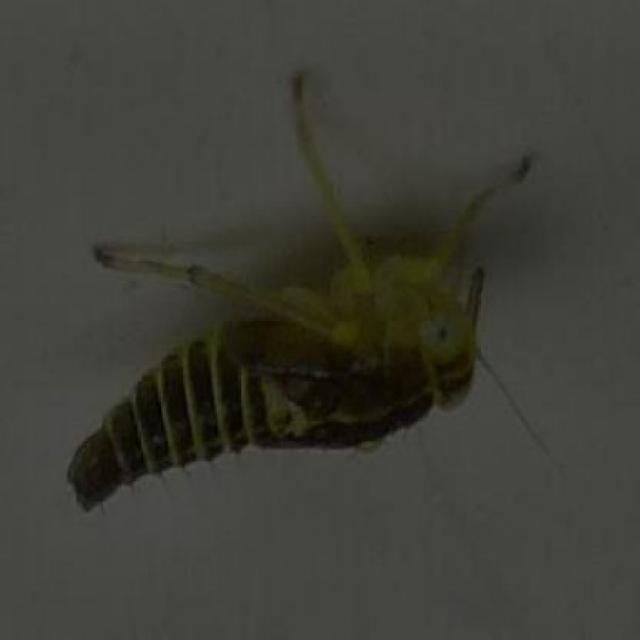green-leafhopper: (72, 168, 503, 515)
